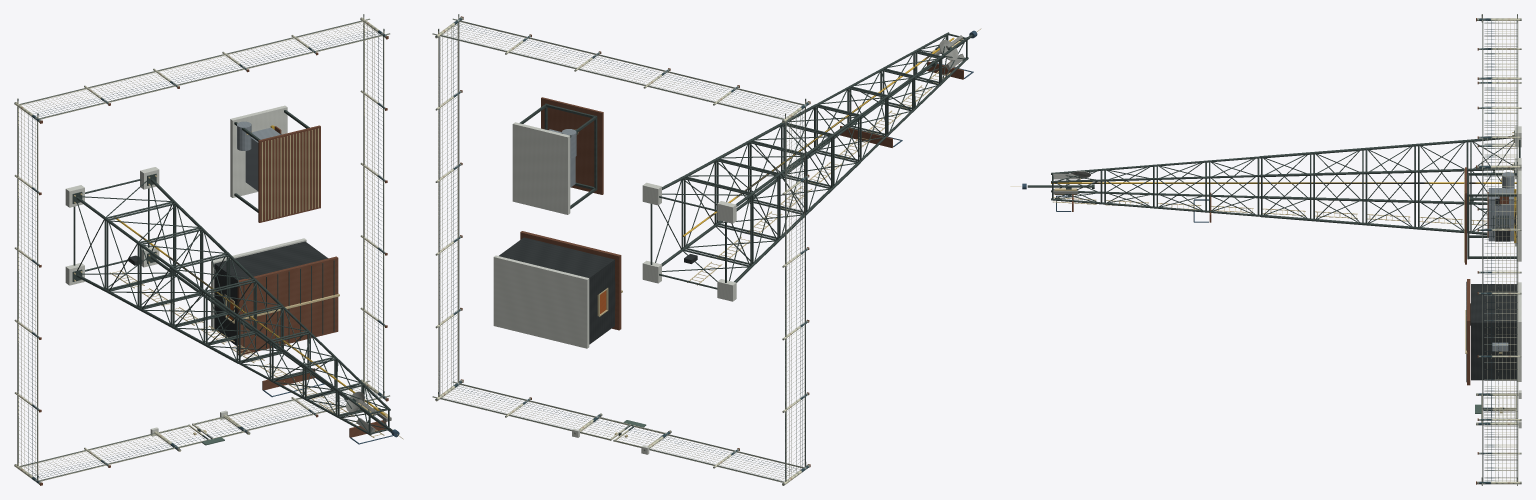
Rendered from PZ_RAD_00_Remote_Radio_Compound_Combined.glb.
3 views of the same model, side by side, from view 1: azimuth 30°, elevation 25°; view 2: azimuth 150°, elevation 25°; view 3: azimuth 270°, elevation 25° (orthographic). The views are drawn at different scales.
Visible parts, largest first — view 1: SITE_HUT_Roof_MainCladding, SITE_GEN_Shelter_Corrugated_Roof, SITE_GEN_Shelter_RoofCorrugations, SITE_HUT_Rear_InsulatedWall, SITE_GEN_Concrete_EquipmentPlinth, SITE_TOWER_TRUSS_TIER_02_HorizontalRings, SITE_TOWER_TRUSS_TIER_03_HorizontalRings, SITE_TOWER_TRUSS_TIER_01_HorizontalRings, SITE_TOWER_TRUSS_TIER_04_HorizontalRings, SITE_HUT_LeftWall_WindowCutout_RealOpening, SITE_TOWER_TRUSS_TIER_01_XDiagonalBracing, SITE_GEN_DieselGenerator_EngineEnclosure (+35 smaller); view 2: SITE_HUT_Raised_Concrete_FloorSlab, SITE_GEN_Concrete_EquipmentPlinth, SITE_GEN_Shelter_Corrugated_Roof, SITE_HUT_Rear_InsulatedWall, SITE_HUT_LeftWall_WindowCutout_RealOpening, SITE_TOWER_TRUSS_TIER_01_HorizontalRings, SITE_HUT_Roof_MainCladding, SITE_TOWER_TRUSS_TIER_02_HorizontalRings, SITE_TOWER_TRUSS_TIER_03_HorizontalRings, SITE_TOWER_TRUSS_TIER_02_XDiagonalBracing, SITE_TOWER_TRUSS_TIER_01_XDiagonalBracing, SITE_TOWER_TRUSS_TIER_04_HorizontalRings (+20 smaller); view 3: SITE_HUT_Right_InsulatedWall, SITE_HUT_Rear_InsulatedWall, SITE_GEN_DieselGenerator_EngineEnclosure, SITE_TOWER_Waveguide_CableRiser, EAST_FENCE_1_Security_WeldedWireMesh_Panel, EAST_FENCE_4_Security_WeldedWireMesh_Panel, EAST_FENCE_5_Security_WeldedWireMesh_Panel, EAST_FENCE_3_Security_WeldedWireMesh_Panel, EAST_FENCE_2_Security_WeldedWireMesh_Panel, SITE_TOWER_TRUSS_TIER_04_4_TaperedLegs, SITE_TOWER_TRUSS_TIER_02_XDiagonalBracing, SITE_TOWER_TRUSS_TIER_03_4_TaperedLegs (+9 smaller).
Part boxes in pixels (bbox=[...]): SITE_HUT_Roof_MainCladding: bbox=[237, 256, 338, 355]; SITE_GEN_Shelter_Corrugated_Roof: bbox=[258, 125, 320, 222]; SITE_GEN_Shelter_RoofCorrugations: bbox=[261, 128, 318, 221]; SITE_HUT_Rear_InsulatedWall: bbox=[214, 241, 328, 281]; SITE_GEN_Concrete_EquipmentPlinth: bbox=[230, 105, 287, 197]; SITE_TOWER_TRUSS_TIER_02_HorizontalRings: bbox=[106, 203, 201, 307]; SITE_TOWER_TRUSS_TIER_03_HorizontalRings: bbox=[139, 229, 228, 325]; SITE_TOWER_TRUSS_TIER_01_HorizontalRings: bbox=[73, 179, 174, 290]; SITE_TOWER_TRUSS_TIER_04_HorizontalRings: bbox=[172, 255, 255, 343]; SITE_HUT_LeftWall_WindowCutout_RealOpening: bbox=[214, 265, 237, 344]; SITE_TOWER_TRUSS_TIER_01_XDiagonalBracing: bbox=[77, 180, 172, 288]; SITE_GEN_DieselGenerator_EngineEnclosure: bbox=[245, 127, 280, 190]; SITE_HUT_Raised_Concrete_FloorSlab: bbox=[493, 255, 589, 348]; SITE_GEN_Concrete_EquipmentPlinth: bbox=[512, 122, 570, 214]; SITE_GEN_Shelter_Corrugated_Roof: bbox=[541, 97, 603, 194]; SITE_HUT_Rear_InsulatedWall: bbox=[499, 237, 614, 279]; SITE_HUT_LeftWall_WindowCutout_RealOpening: bbox=[589, 261, 615, 343]; SITE_TOWER_TRUSS_TIER_01_HorizontalRings: bbox=[650, 177, 751, 289]; SITE_HUT_Roof_MainCladding: bbox=[520, 231, 621, 330]; SITE_TOWER_TRUSS_TIER_02_HorizontalRings: bbox=[684, 159, 778, 264]; SITE_TOWER_TRUSS_TIER_03_HorizontalRings: bbox=[717, 141, 804, 238]; SITE_TOWER_TRUSS_TIER_02_XDiagonalBracing: bbox=[686, 161, 777, 262]; SITE_TOWER_TRUSS_TIER_01_XDiagonalBracing: bbox=[655, 179, 750, 281]; SITE_TOWER_TRUSS_TIER_04_HorizontalRings: bbox=[750, 123, 832, 212]; SITE_HUT_Right_InsulatedWall: bbox=[1471, 322, 1516, 380]; SITE_HUT_Rear_InsulatedWall: bbox=[1471, 284, 1516, 322]; SITE_GEN_DieselGenerator_EngineEnclosure: bbox=[1488, 188, 1513, 241]; SITE_TOWER_Waveguide_CableRiser: bbox=[1051, 182, 1516, 183]; EAST_FENCE_1_Security_WeldedWireMesh_Panel: bbox=[1484, 421, 1518, 481]; EAST_FENCE_4_Security_WeldedWireMesh_Panel: bbox=[1484, 231, 1518, 291]; EAST_FENCE_5_Security_WeldedWireMesh_Panel: bbox=[1484, 168, 1518, 228]; EAST_FENCE_3_Security_WeldedWireMesh_Panel: bbox=[1484, 294, 1518, 354]; EAST_FENCE_2_Security_WeldedWireMesh_Panel: bbox=[1484, 358, 1518, 418]; SITE_TOWER_TRUSS_TIER_04_4_TaperedLegs: bbox=[1312, 148, 1364, 225]; SITE_TOWER_TRUSS_TIER_02_XDiagonalBracing: bbox=[1420, 141, 1464, 230]; SITE_TOWER_TRUSS_TIER_03_4_TaperedLegs: bbox=[1364, 143, 1416, 229].
Bounding box in the file's own units: 20.42 × 20.53 × 29.33.
Materials: 1 (1 with a texture image).
